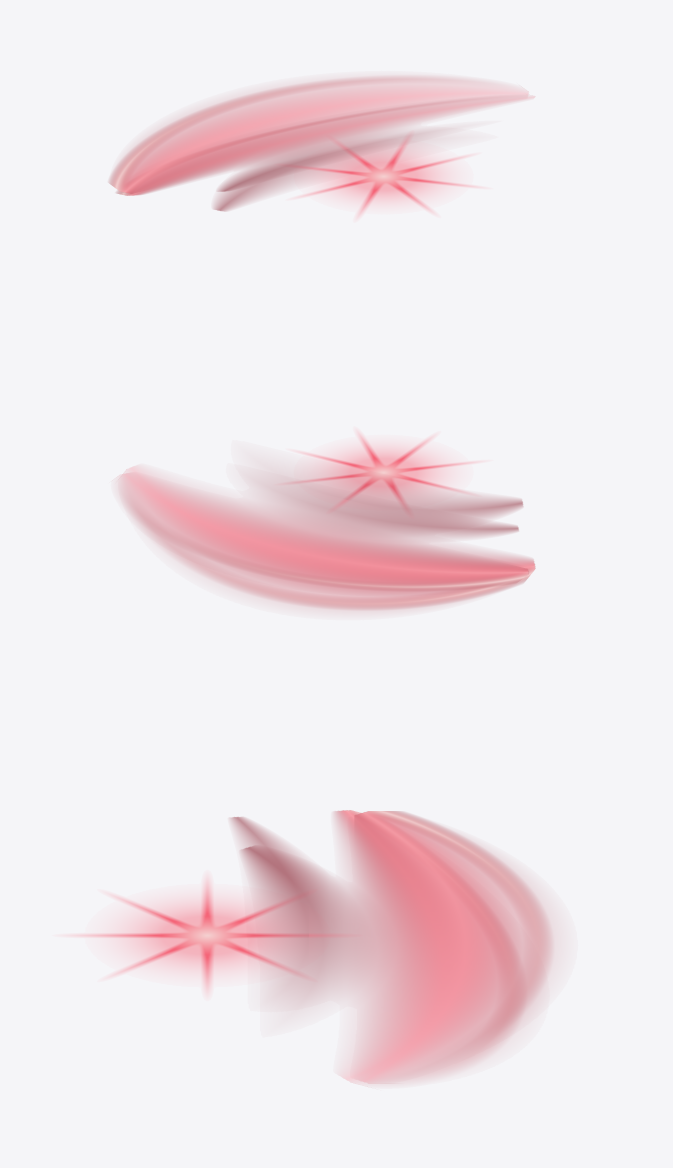
The model's file is fx_slash_t3.glb.
3 views of the same model, one above another, from view 1: azimuth 30°, elevation 25°; view 2: azimuth 150°, elevation 25°; view 3: azimuth 270°, elevation 25° (orthographic). The views are drawn at different scales.
Visible parts, largest first — view 1: fx_slash, fx_slash_core; view 2: fx_slash, fx_slash_core; view 3: fx_slash, fx_slash_core.
Part boxes in pixels (bbox=[...]): fx_slash: bbox=[108, 76, 534, 211]; fx_slash_core: bbox=[295, 137, 478, 216]; fx_slash: bbox=[116, 466, 535, 610]; fx_slash_core: bbox=[293, 432, 477, 508]; fx_slash: bbox=[230, 810, 554, 1086]; fx_slash_core: bbox=[72, 878, 342, 992].
Bounding box in the file's own units: 1 × 0.27 × 1.
2 materials, 2 textured.
